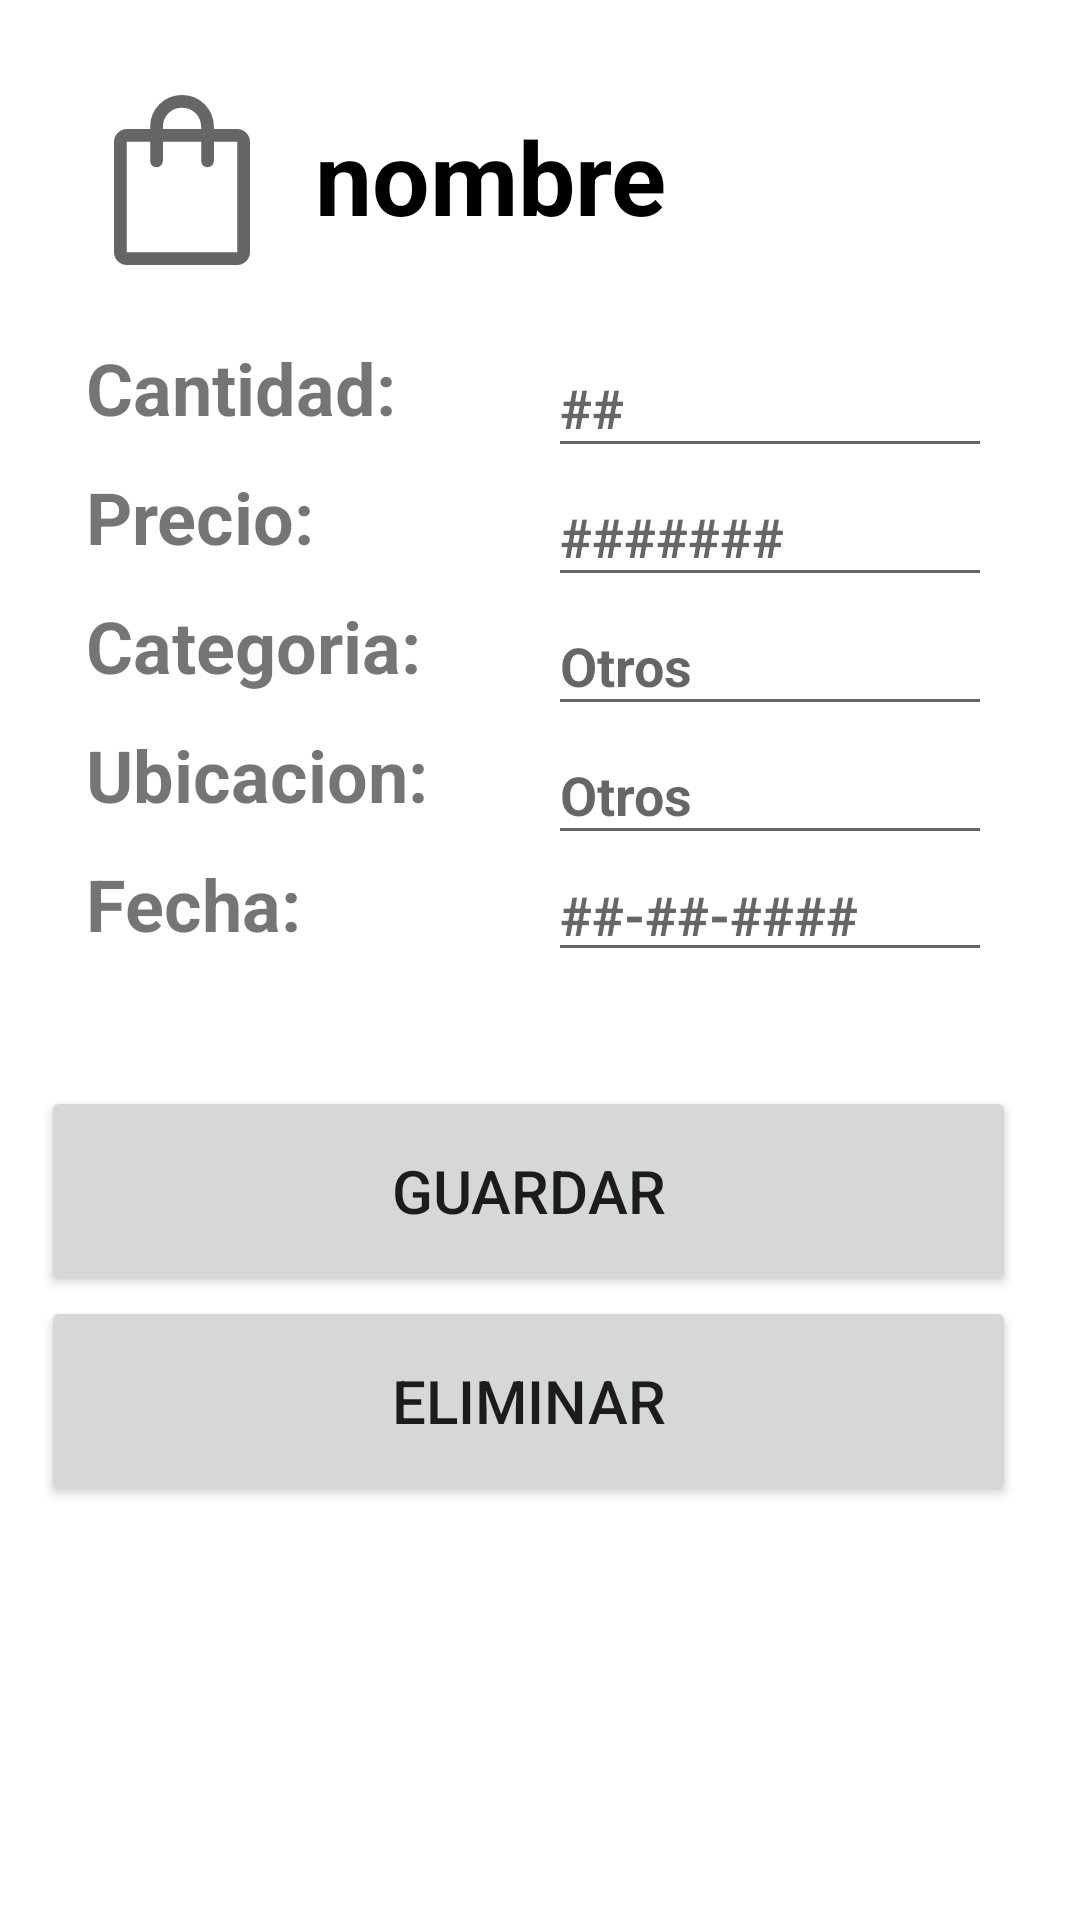

Icon click points for this 1080px x 1920px phone screenshot, format (x,y):
articulo: (182,180)
